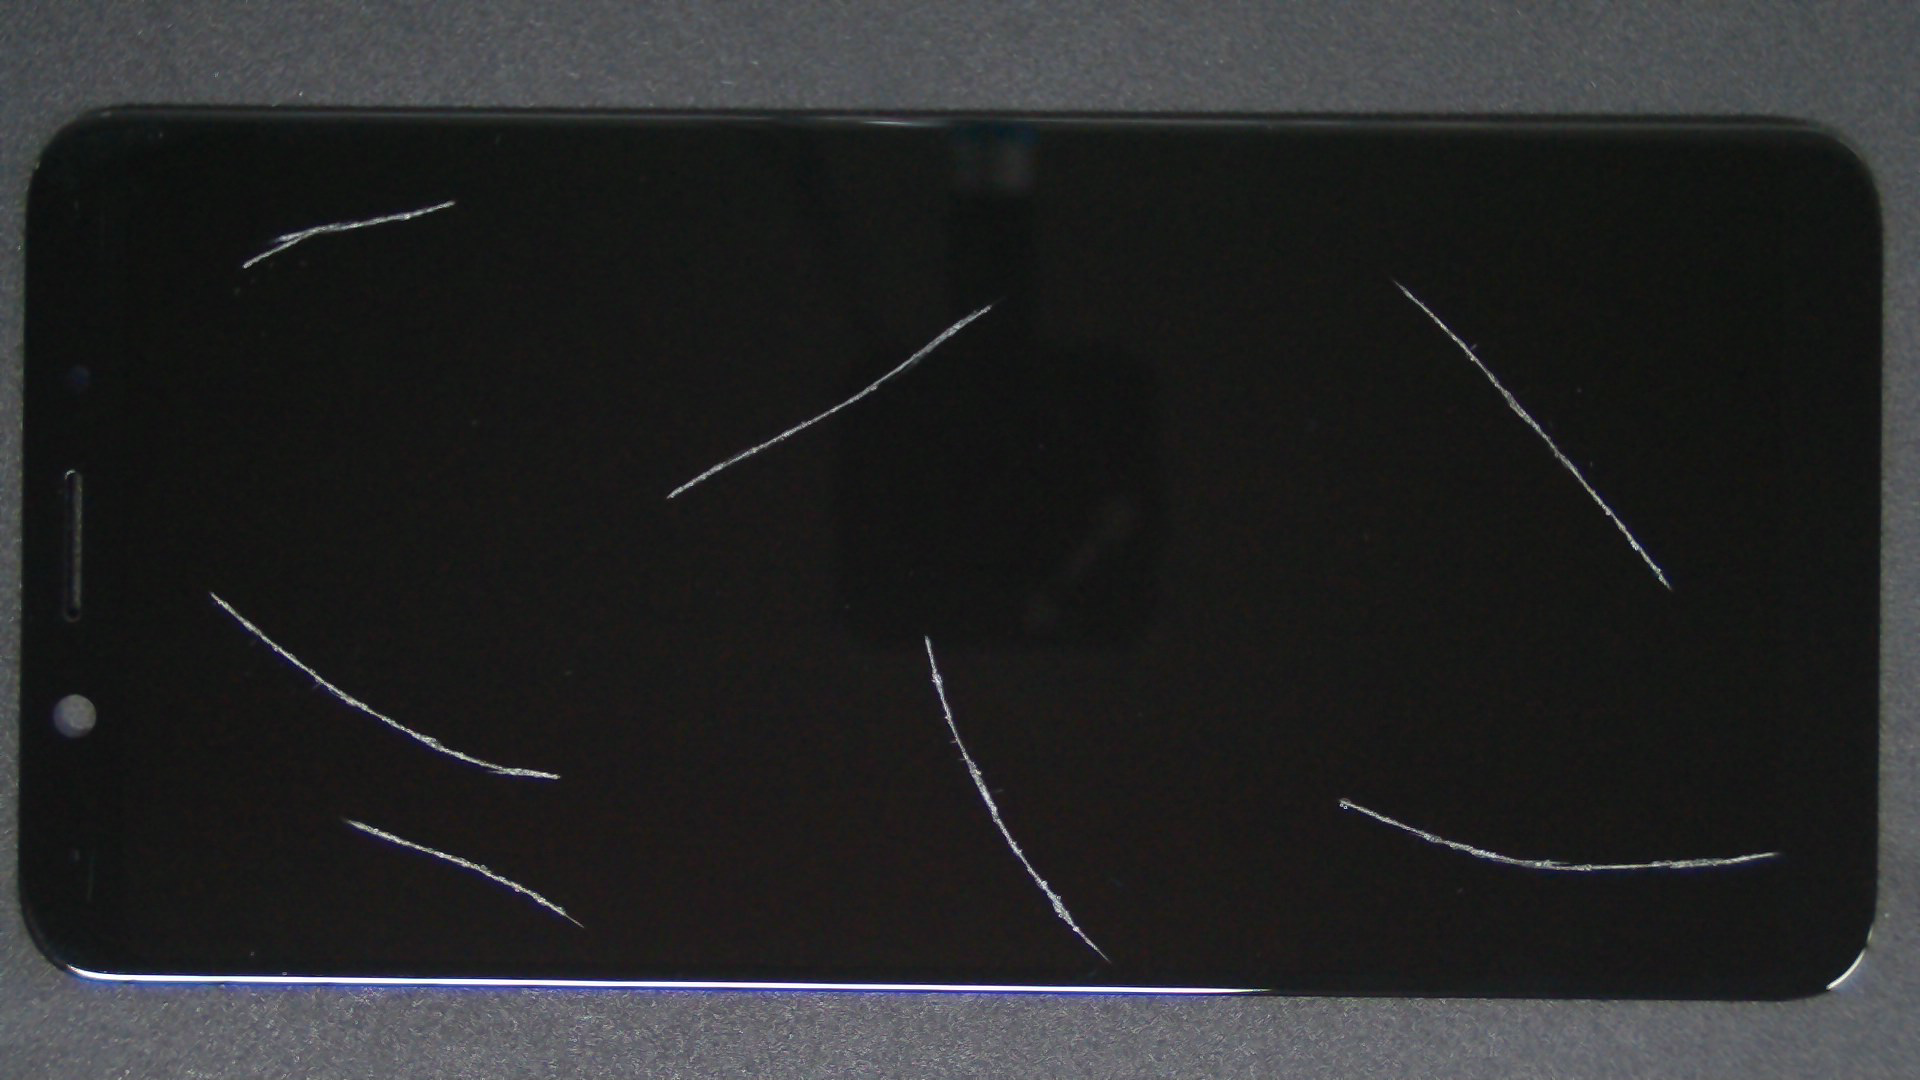defect: (1396, 280, 1673, 591), (208, 589, 560, 779), (666, 305, 993, 498), (924, 634, 1112, 964), (1337, 796, 1782, 872), (344, 818, 585, 928), (240, 199, 458, 269)
